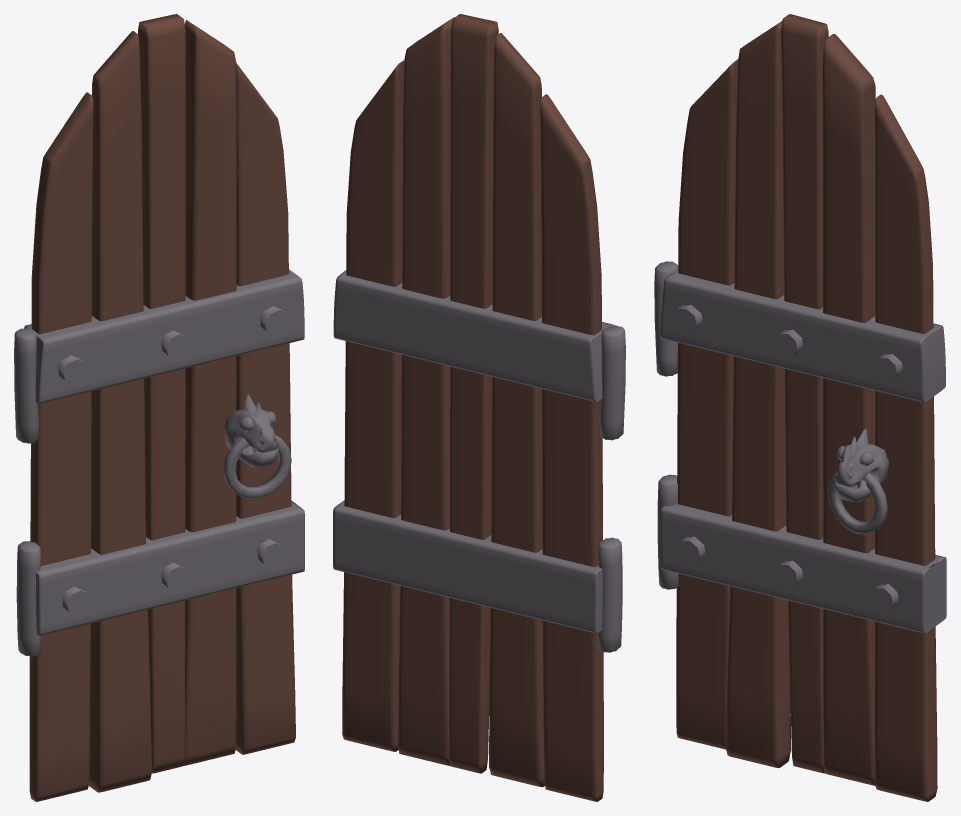
The model's file is BasicDoor2.fbx.
3 renders of one model, left to right at view 1: azimuth 30°, elevation 25°; view 2: azimuth 150°, elevation 25°; view 3: azimuth 330°, elevation 25°, orthographic.
Parts seen in each view (by area): view 1: Cube.097, Cylinder.051; view 2: Cube.097, Cylinder.051; view 3: Cube.097, Cylinder.051.
Part boxes in pixels (x1,y1,x2,y2): Cube.097: (29,14,295,801); Cylinder.051: (14,269,304,656); Cube.097: (342,14,603,801); Cylinder.051: (333,270,625,652); Cube.097: (676,14,937,801); Cylinder.051: (654,261,946,633).
Size of the model in its own units: 106 by 30.88 by 273.
